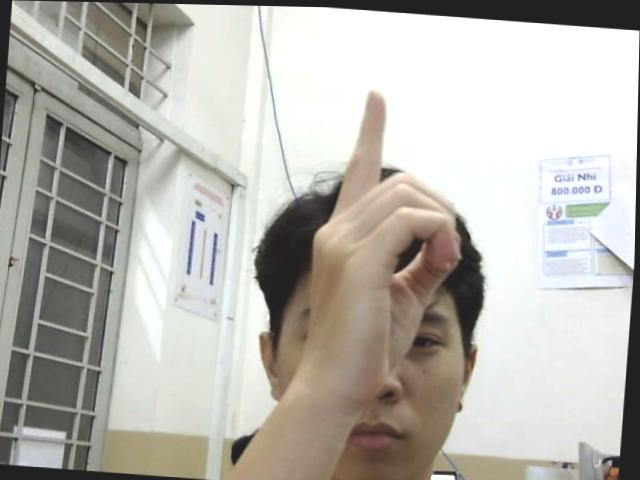D: (301, 82, 472, 390)
